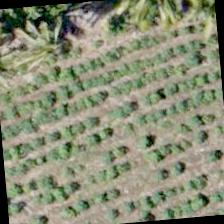Kelapa_Sawit: (7, 1, 104, 96)
